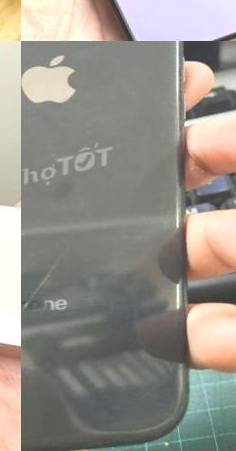scratch: (151, 281, 211, 395), (21, 246, 80, 327), (75, 403, 192, 441), (122, 86, 139, 103), (168, 98, 179, 115), (21, 221, 30, 238)
